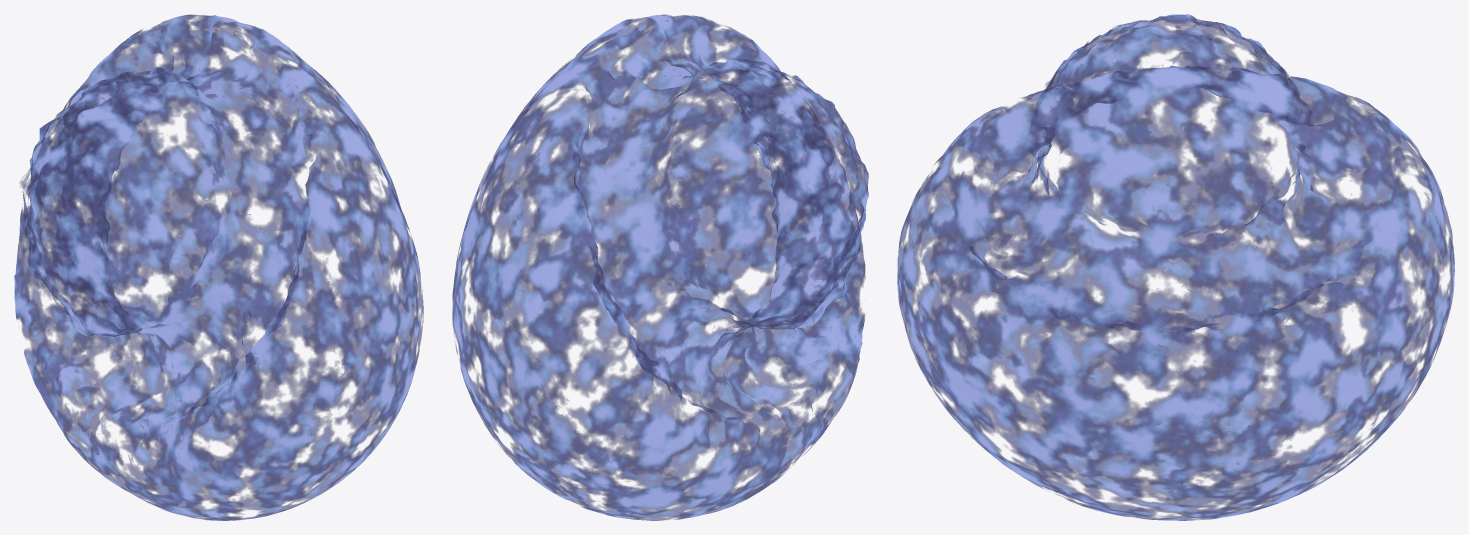
The model's file is ic443_blastwave.glb.
3 views of the same model, side by side, from view 1: azimuth 30°, elevation 25°; view 2: azimuth 150°, elevation 25°; view 3: azimuth 270°, elevation 25° (orthographic). The views are drawn at different scales.
Parts seen in each view (by area): view 1: IC443_gtlf_Blastwave_decimated_baked; view 2: IC443_gtlf_Blastwave_decimated_baked; view 3: IC443_gtlf_Blastwave_decimated_baked.
Boxes of the visible parts, x1,y1,x2,y2 form: IC443_gtlf_Blastwave_decimated_baked: (14, 14, 423, 520); IC443_gtlf_Blastwave_decimated_baked: (452, 14, 868, 520); IC443_gtlf_Blastwave_decimated_baked: (897, 14, 1454, 520).
Bounding box in the file's own units: 8.11 × 10.12 × 10.98.
Materials: 1 (1 with a texture image).
